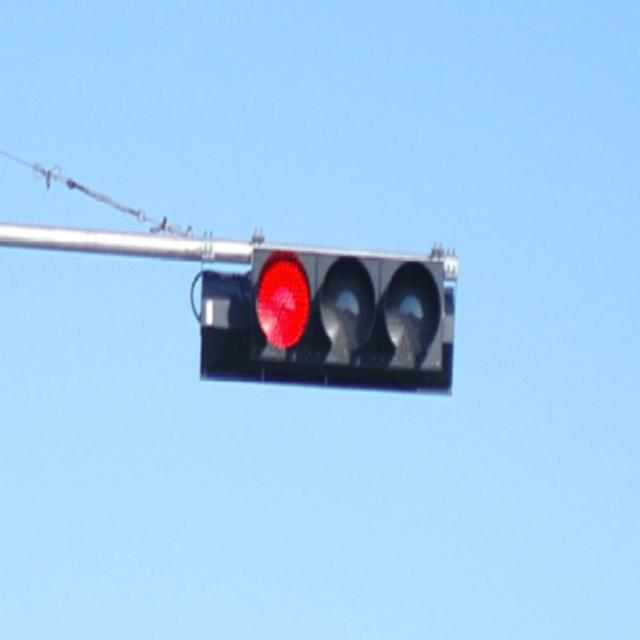Red Light: (253, 246, 316, 368)
